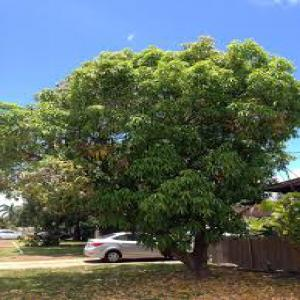Tree: (25, 32, 298, 276)
